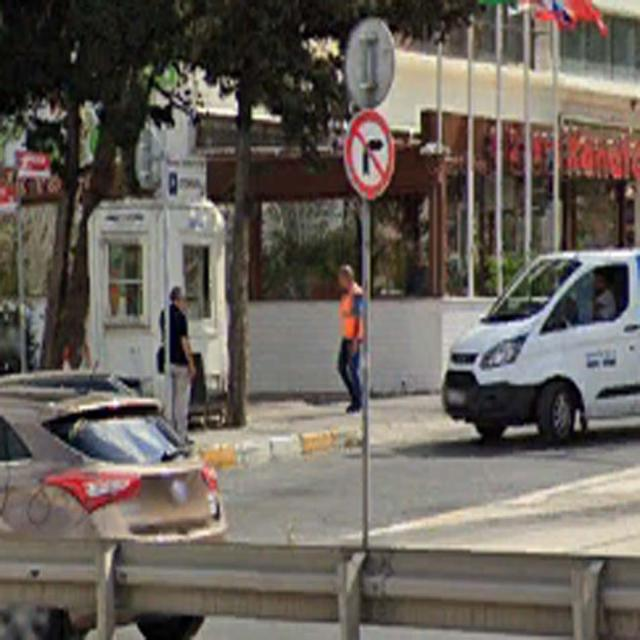sagadonulmez: (345, 110, 395, 198)
